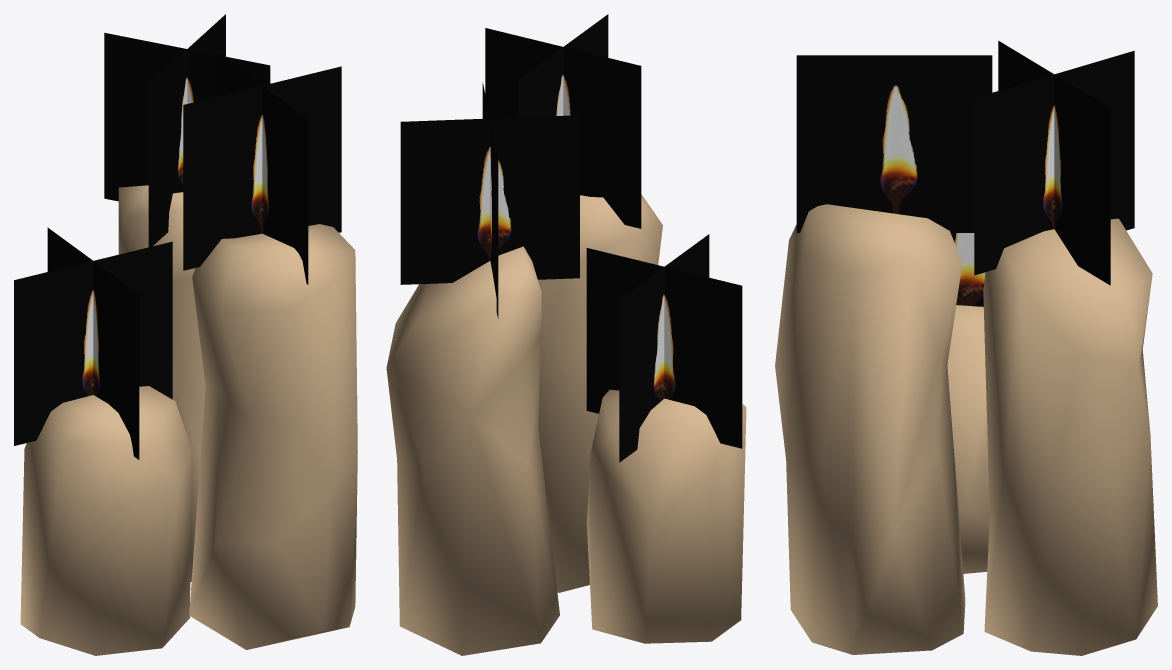
The model's file is SM_candle_set_03.fbx.
3 views of the same model, side by side, from view 1: azimuth 30°, elevation 25°; view 2: azimuth 150°, elevation 25°; view 3: azimuth 270°, elevation 25° (orthographic). The views are drawn at different scales.
Parts seen in each view (by area): view 1: Candles_02; view 2: Candles_02; view 3: Candles_02.
Part boxes in pixels (x1,y1,x2,y2): Candles_02: (14,14,357,655); Candles_02: (386,14,746,655); Candles_02: (775,40,1157,655).
Size of the model in its own units: 10.54 by 17.66 by 10.91.
